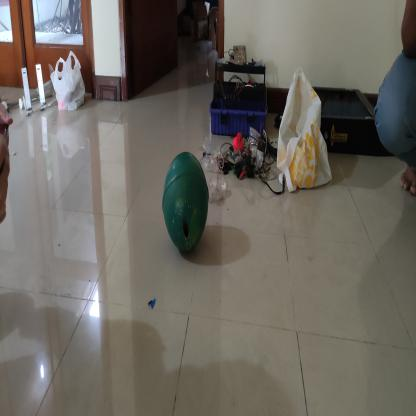green_buoy: (162, 148, 210, 259)
